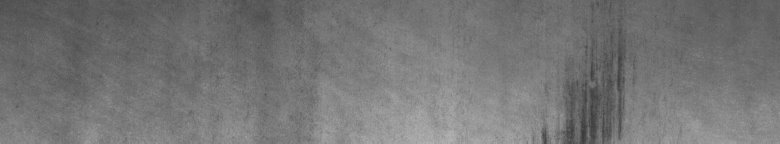ka: (542, 54, 628, 136)
